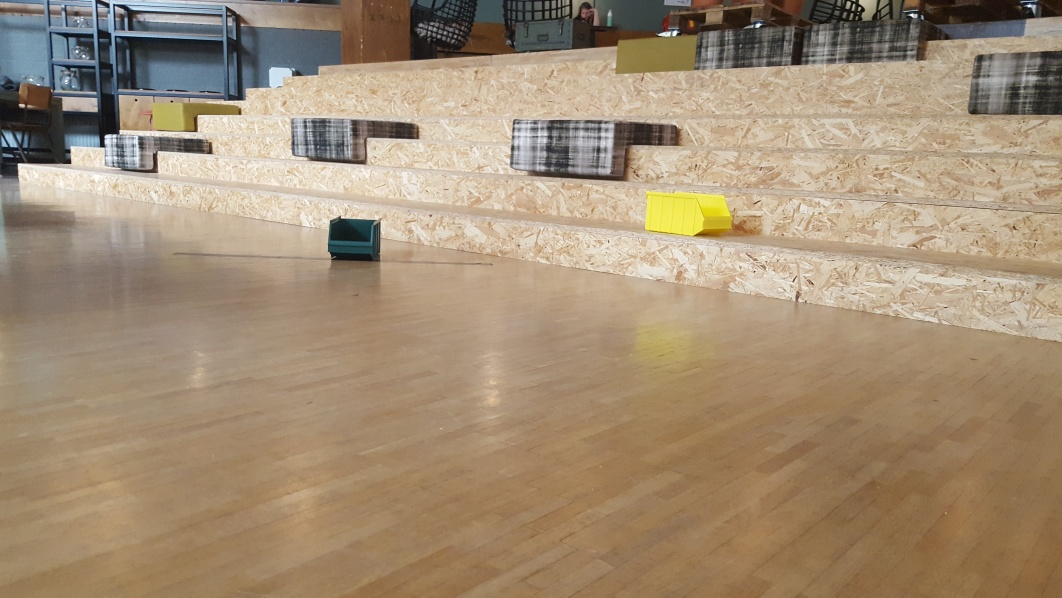tray: (638, 188, 736, 237), (327, 216, 385, 260)
